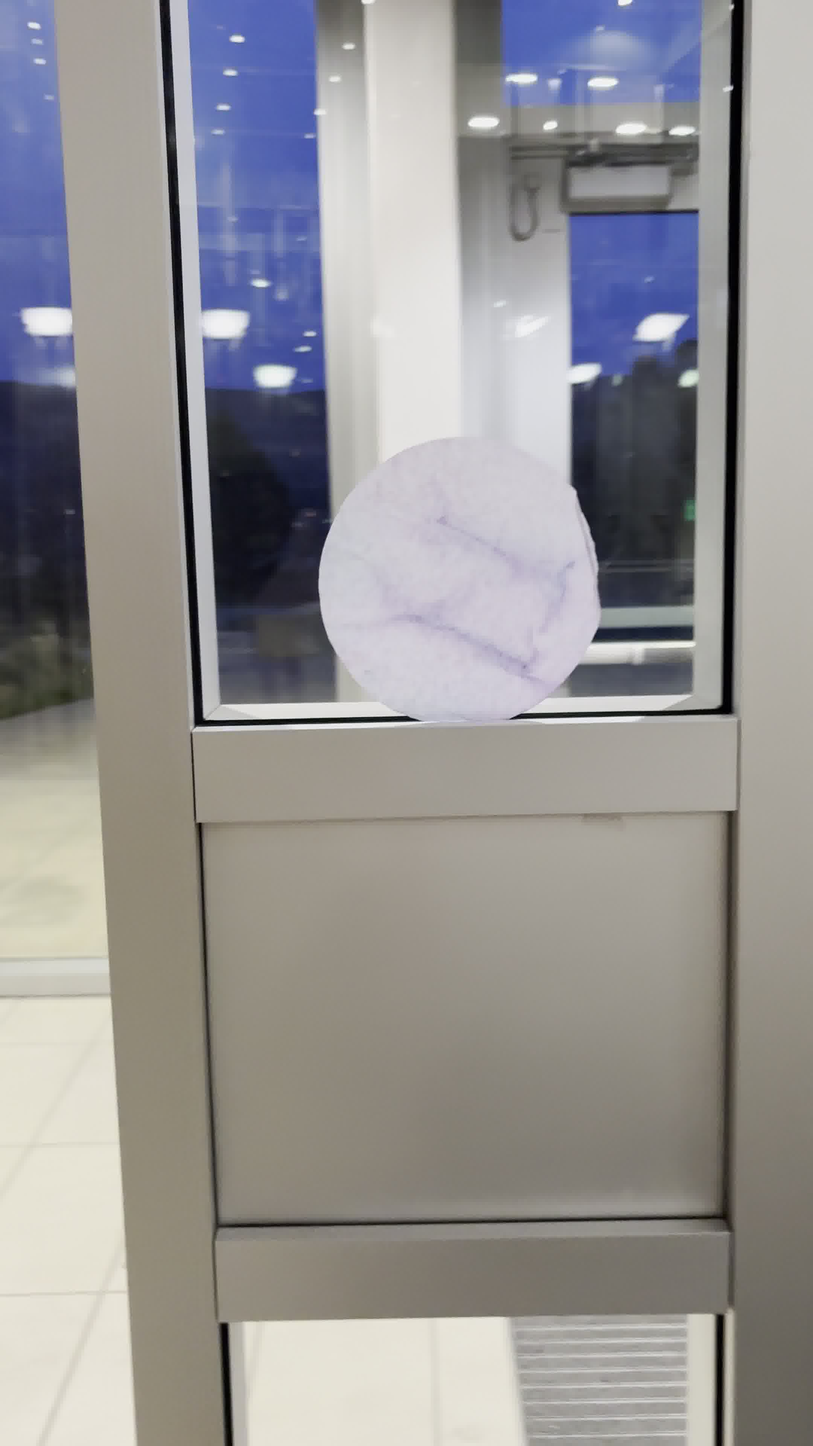Target: (320, 437, 602, 722)
